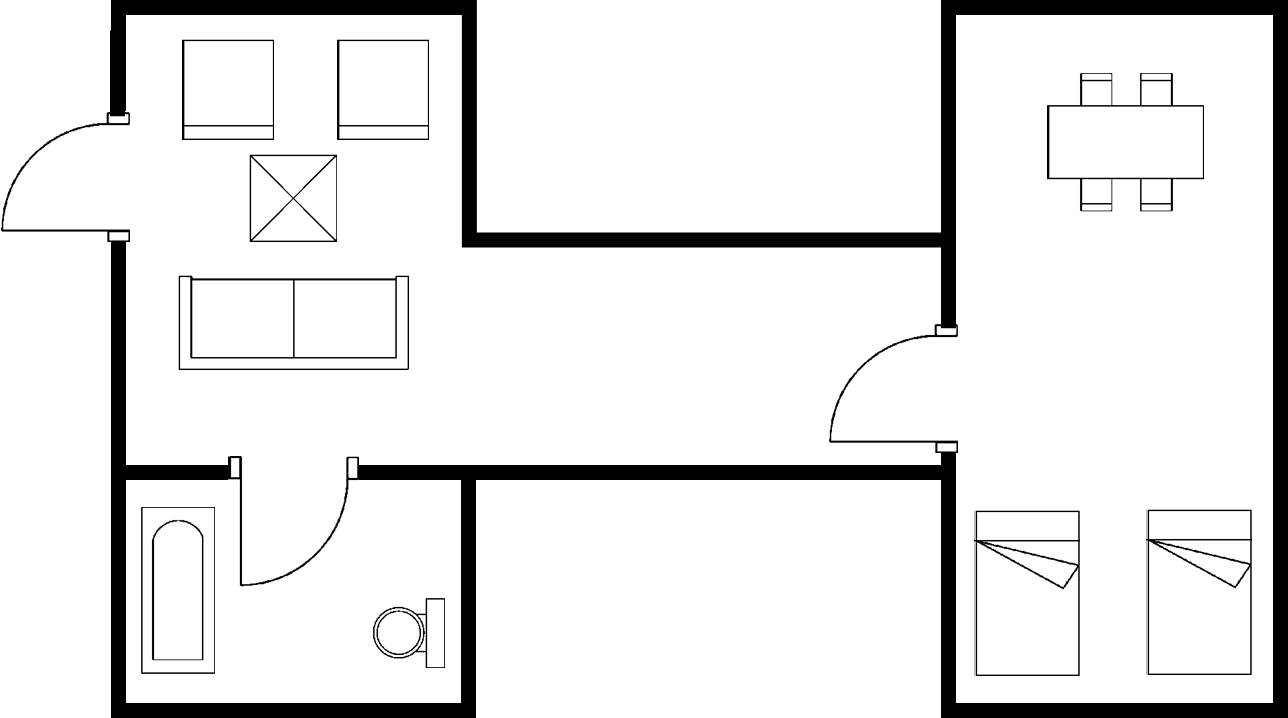bed: (968, 502, 1089, 683), (1141, 503, 1258, 683)
coffee_table: (245, 150, 345, 247)
dining_table: (1043, 68, 1209, 216)
large_sink: (366, 592, 452, 675)
large_sofa: (172, 268, 416, 379)
small_sofa: (174, 35, 283, 146), (330, 34, 437, 147)
tub: (137, 501, 223, 681)
